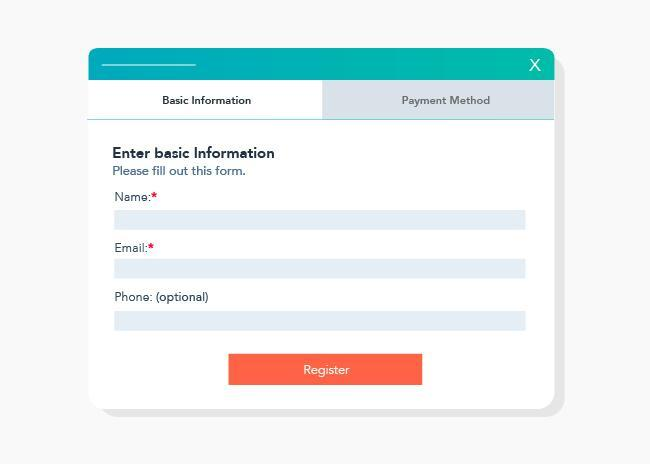button: (327, 79, 556, 123), (89, 80, 325, 122), (228, 353, 425, 387)
input: (112, 308, 525, 334), (114, 258, 527, 281), (113, 208, 527, 230)
label: (113, 143, 278, 181), (114, 290, 211, 306), (113, 240, 157, 256), (112, 190, 160, 204)
